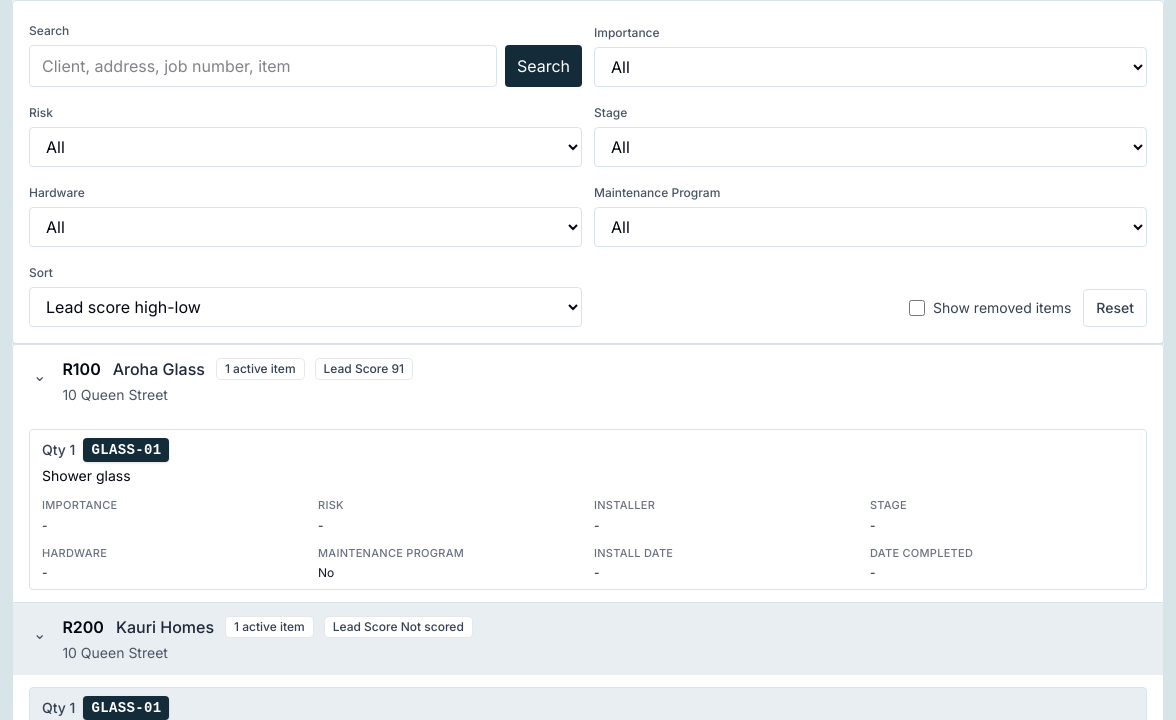
Test: WorkOrdersTableControls › starts every parent expanded and collapses each Work Order independently
Check: the text "Aroha Glass" is shown, box [113,357,205,381]
Check: the text "10 Queen Street" below "R100" is shown, box [62,386,168,403]
What coordinates should you click on to do the following:
click the button named "Collapse Work Order R100"
I would click on:
 (40, 375)
Its box is [29,359,50,391].
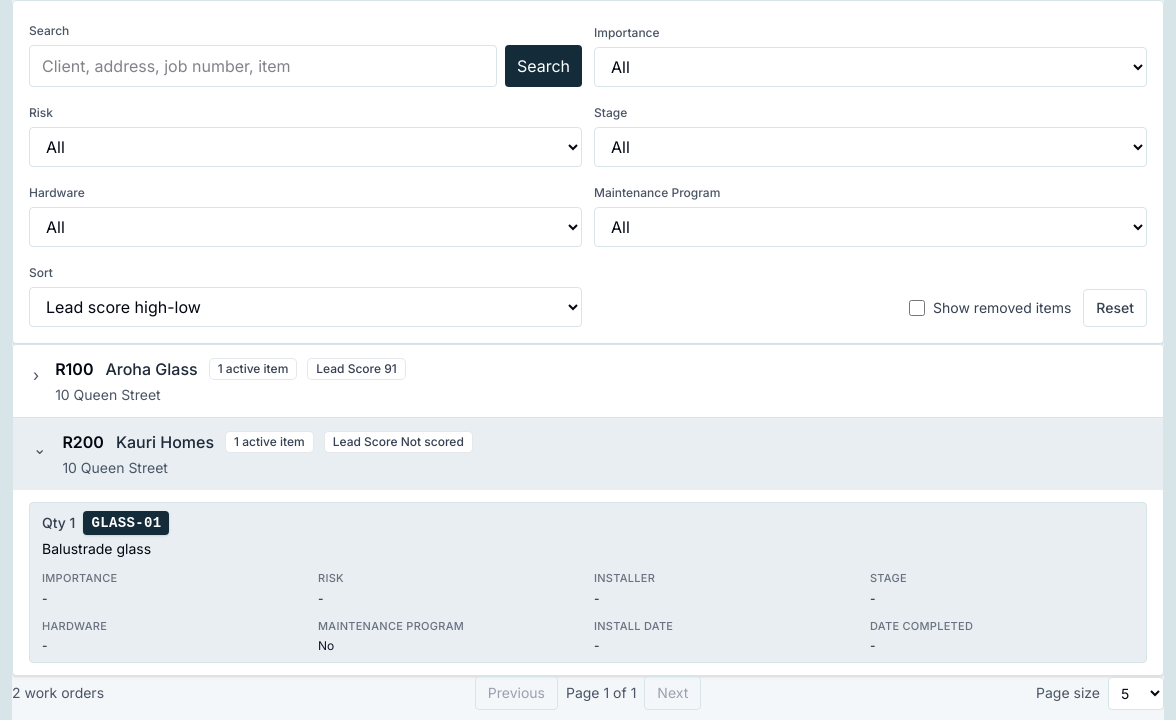
Check: the text "Balustrade glass" is shown, box [42,539,151,559]
Check: the button named "Expand Work Order R100" is collapsed, box [29,359,43,391]
Check: the text "Shower glass" is gone
